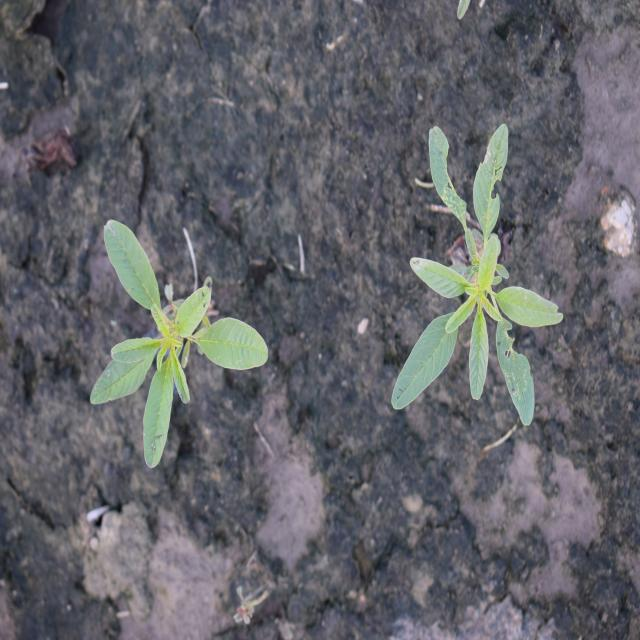Waterhemp: (390, 121, 564, 430), (88, 218, 269, 471)
